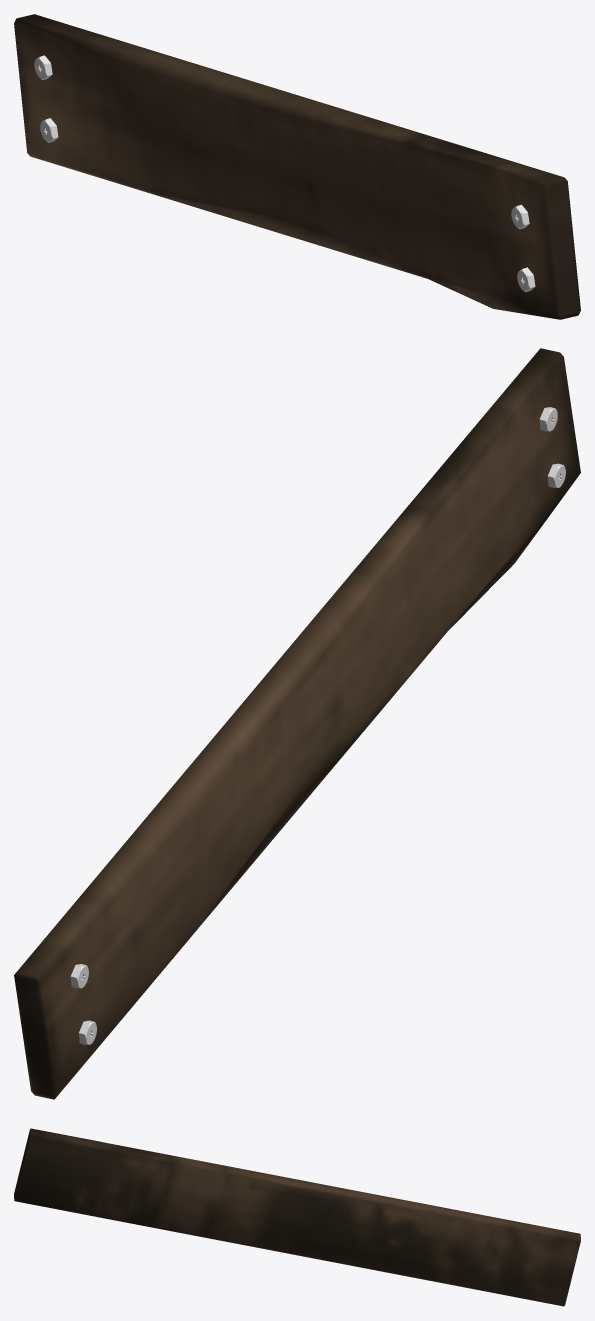
File: Baricade.fbx
3 renders of one model, top to bottom at view 1: azimuth 30°, elevation 25°; view 2: azimuth 150°, elevation 25°; view 3: azimuth 270°, elevation 25°, orthographic. The views are drawn at different scales.
Visible parts, largest first — view 1: Board; view 2: Board; view 3: Board.
Part boxes in pixels (box(x1,y1,x2,y2)): Board: box(14, 14, 580, 319); Board: box(14, 348, 580, 1099); Board: box(14, 1128, 580, 1306).
Bounding box in the file's own units: 5.3 × 31.88 × 91.51.
